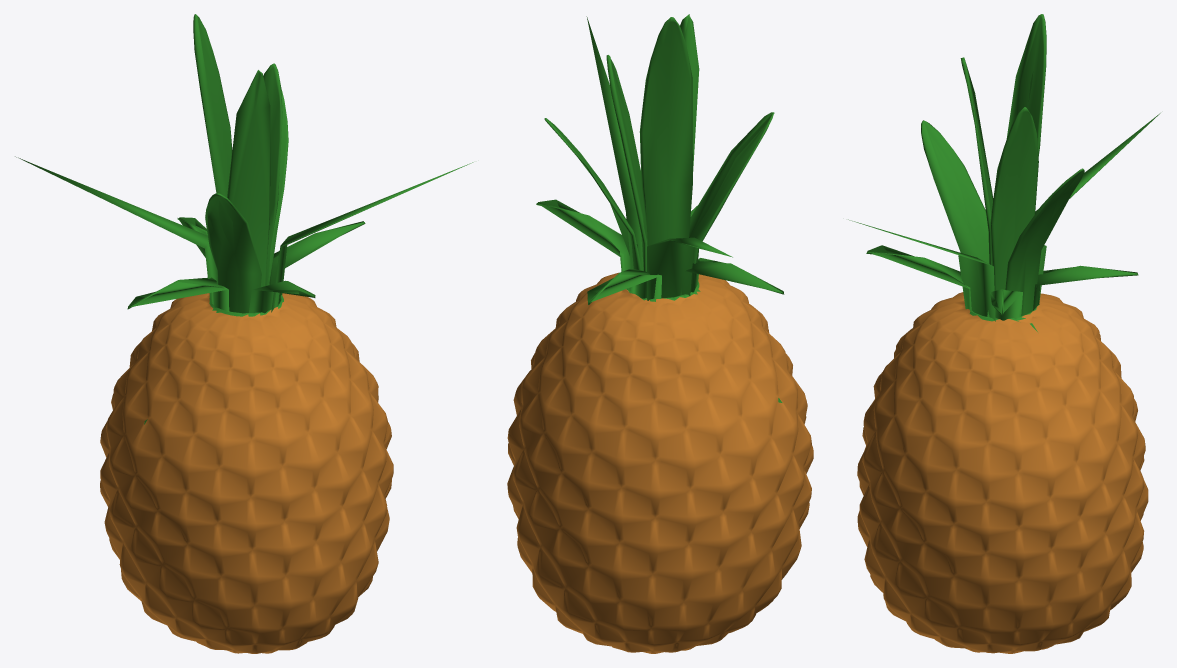
The picture shows the model from 3 angles, left to right: view 1: azimuth 30°, elevation 25°; view 2: azimuth 150°, elevation 25°; view 3: azimuth 270°, elevation 25°; orthographic projection. The views are drawn at different scales.
Parts seen in each view (by area): view 1: pineapple-ornament-002; view 2: pineapple-ornament-002; view 3: pineapple-ornament-002.
Boxes of the visible parts, left/top/right/bottom form: pineapple-ornament-002: left=15, top=14, right=473, bottom=653; pineapple-ornament-002: left=507, top=14, right=813, bottom=653; pineapple-ornament-002: left=848, top=14, right=1160, bottom=653.
Size of the model in its own units: 186 by 353 by 172.
